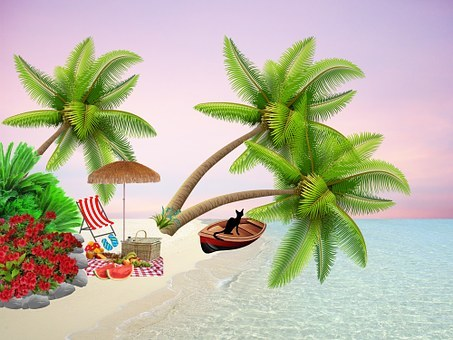boat: (197, 214, 270, 256)
cat: (212, 207, 246, 243)
chair: (75, 194, 118, 244)
